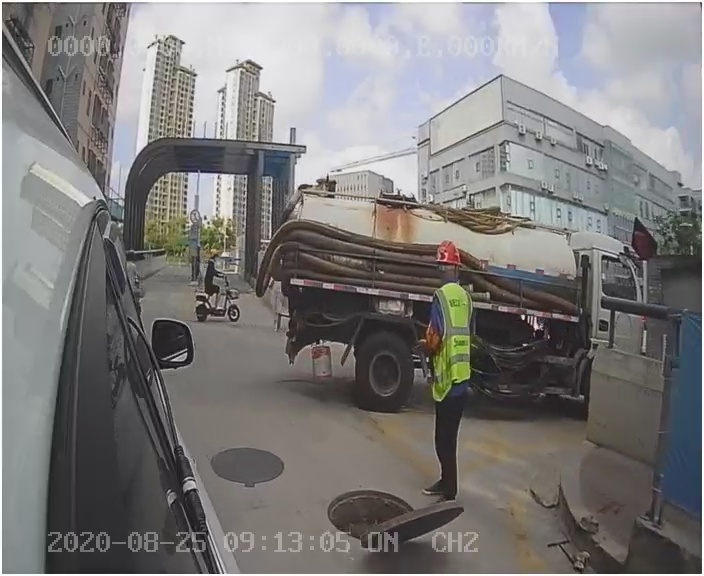person: (417, 244, 476, 500)
